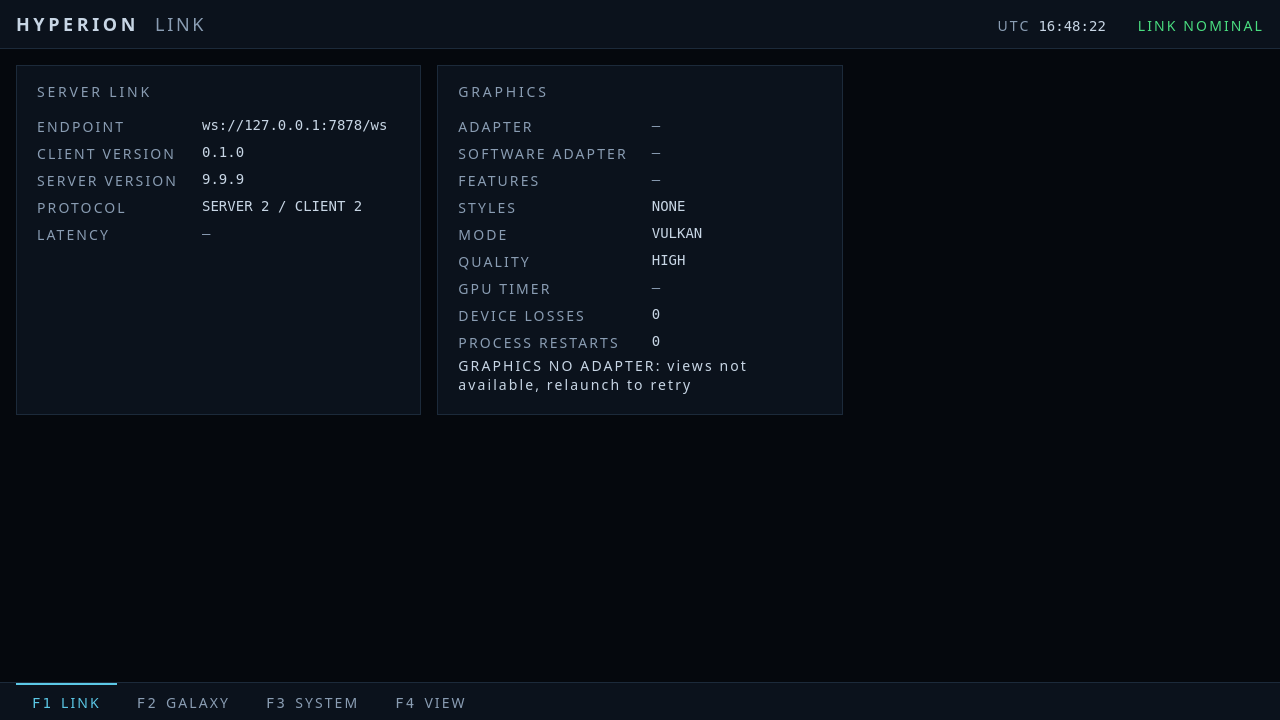
Test: the GALAXY readout's stars › reads a white dwarf's remnant and cooling age
Press F2
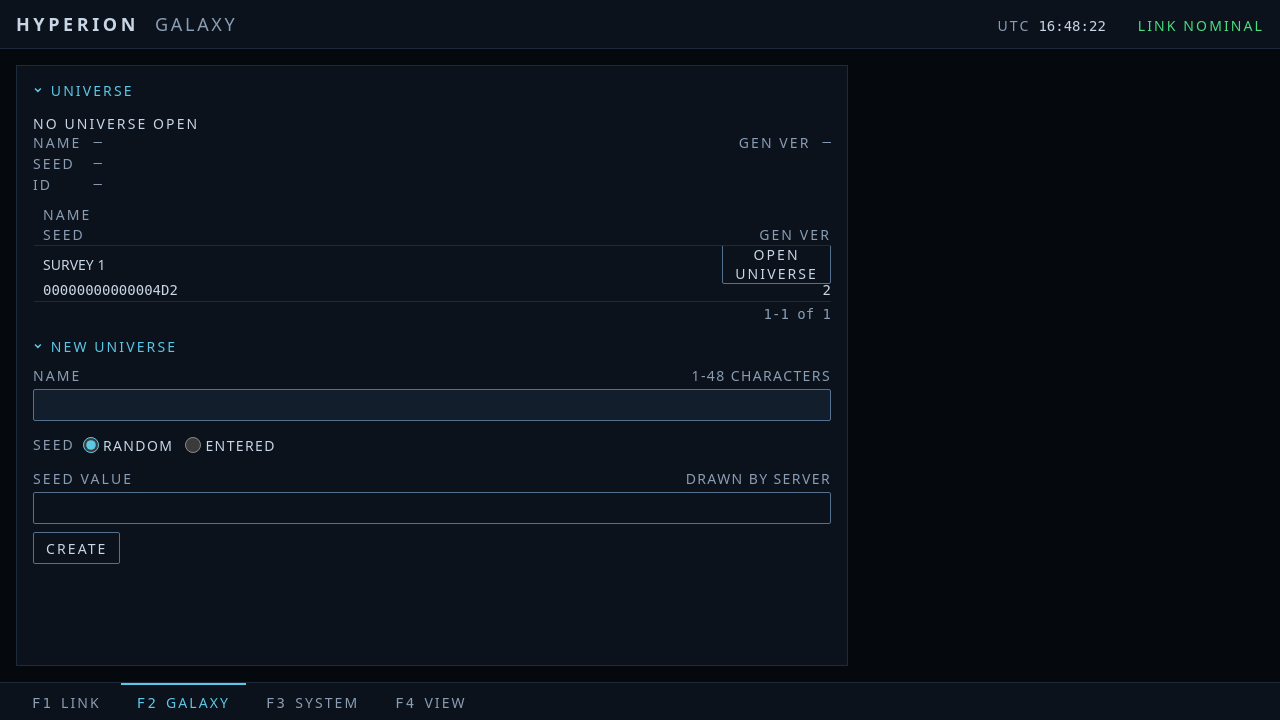
Click the button with aria-label "Open universe SURVEY 1" at (777, 264), box [722,244,831,284]
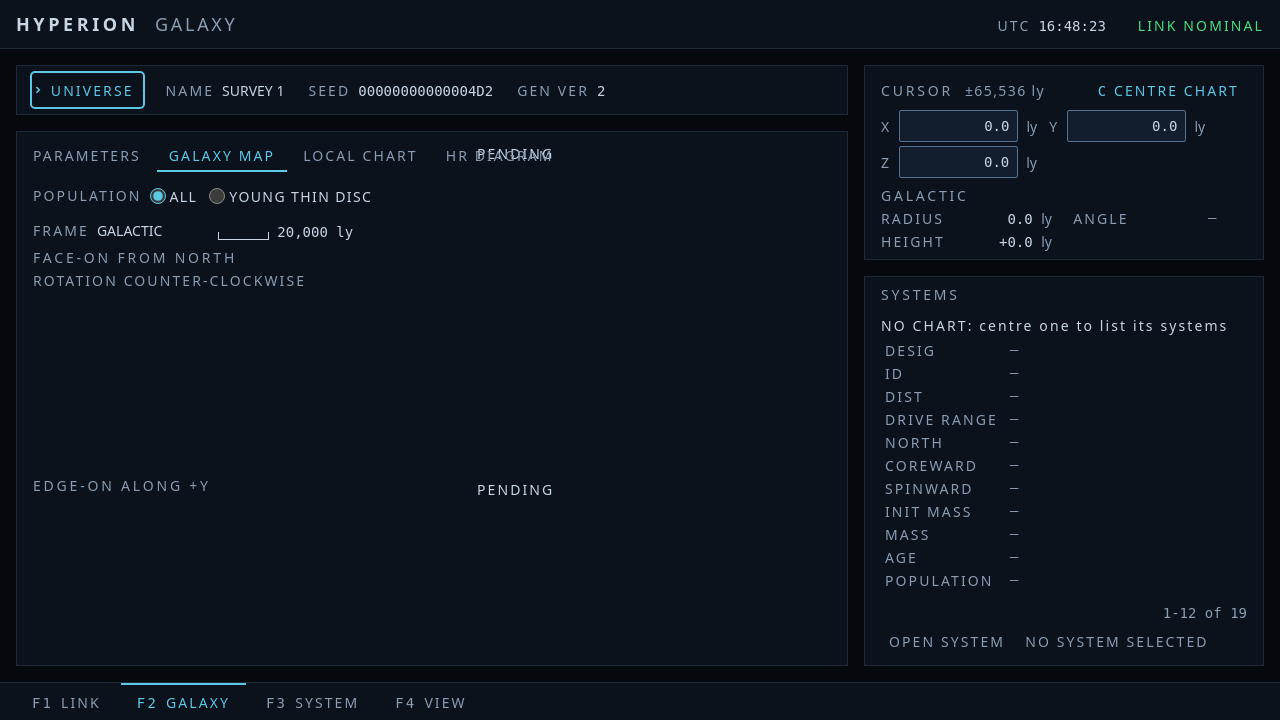
Replace the text in the field labelled "X" with "26000" at (959, 126), box [899,110,1018,142]
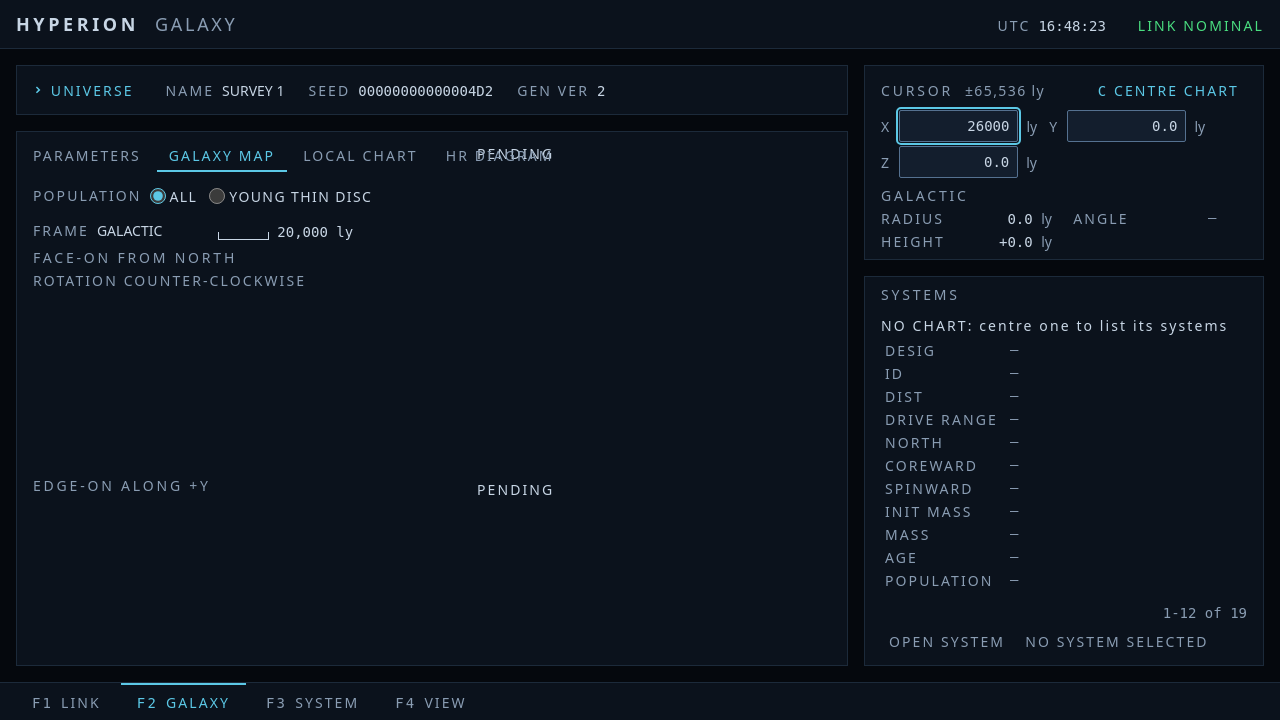
Click the button "C CENTRE CHART" at (1168, 90), box [1090,74,1247,106]
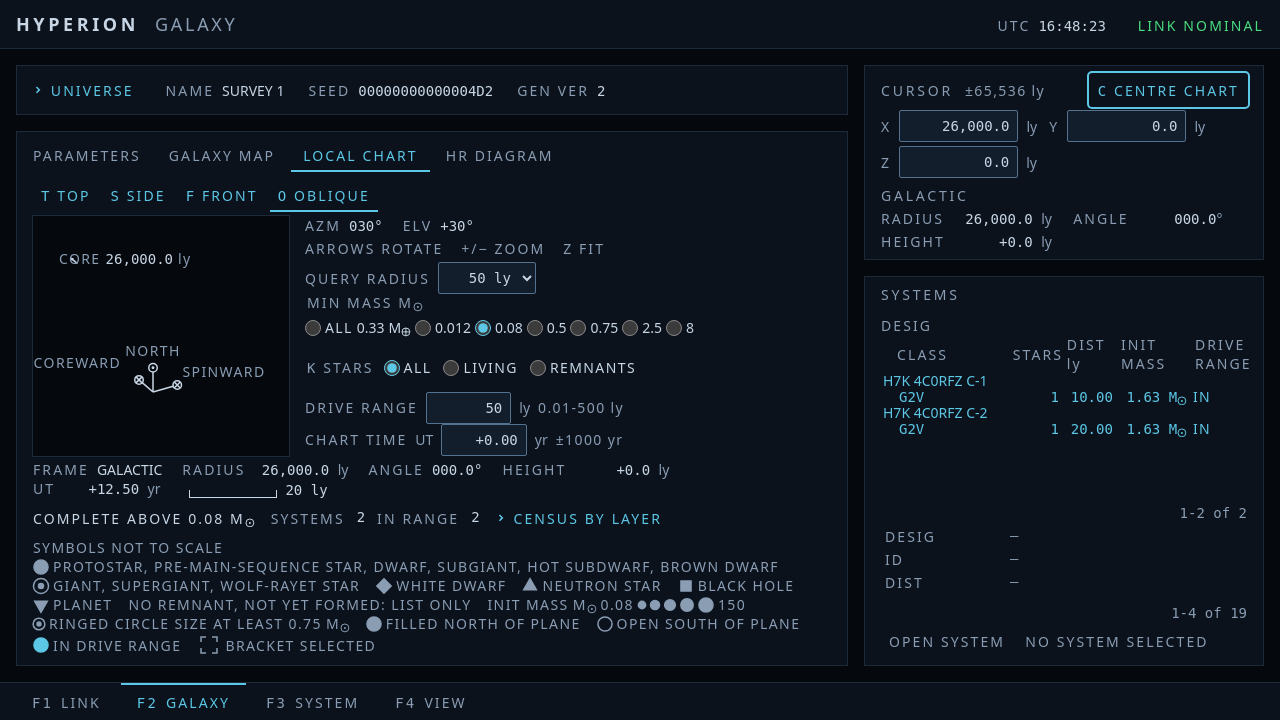
Click the option with aria-label "H7K 4C0RFZ C-1," at (935, 380), box [881,373,1247,405]
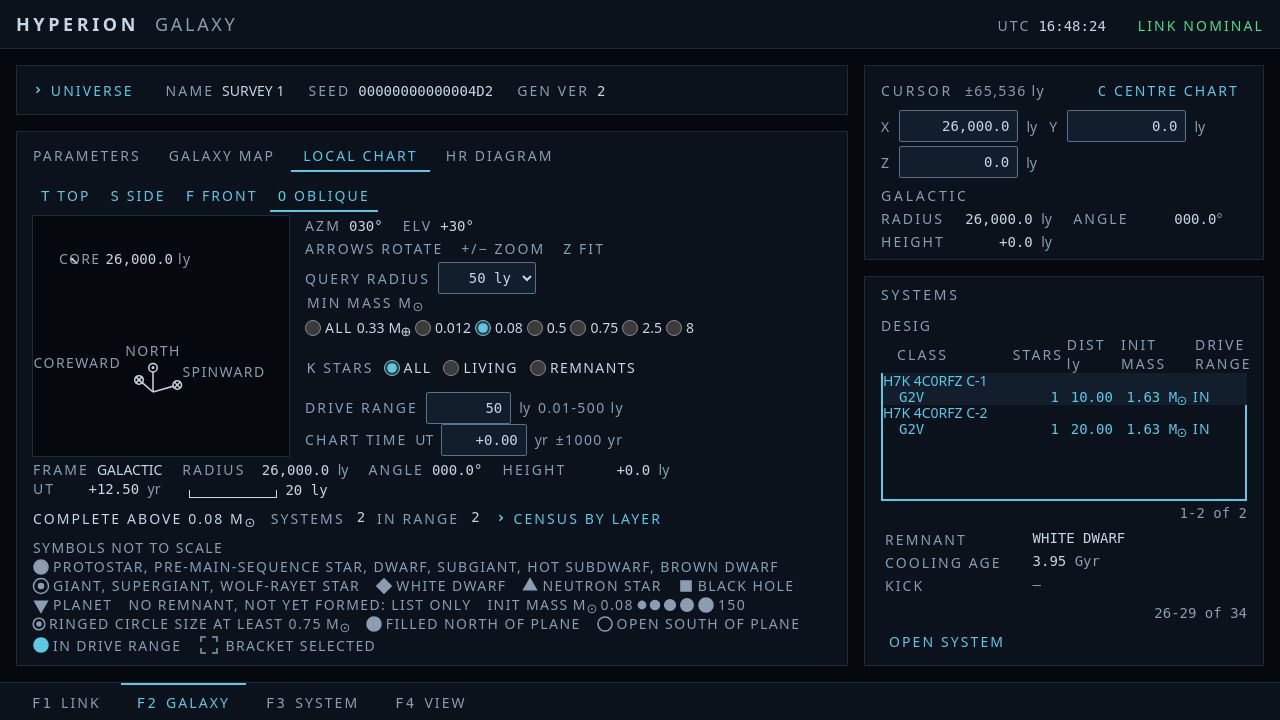
Check: the element showing "WHITE DWARF" next to "GIANT, SUPERGIANT, WOLF-RAYET STAR" is shown, box [396,576,506,595]
Check: the element showing "3.95 Gyr" is shown, box [1032,553,1100,569]
